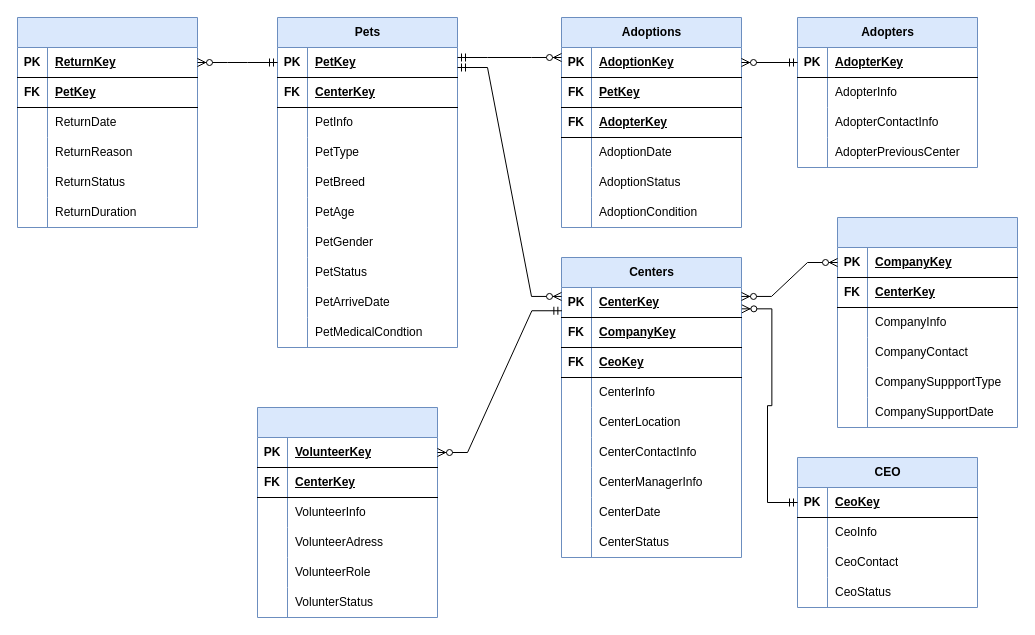
Some shapes in this 1035 by 635 pixel diagram are drawn without their labels. Each missing label, with the box of its shape:
ReturnedPets: (16, 16, 198, 228)
SupporterCompanies: (836, 216, 1018, 428)
Volunteers: (256, 406, 438, 618)
